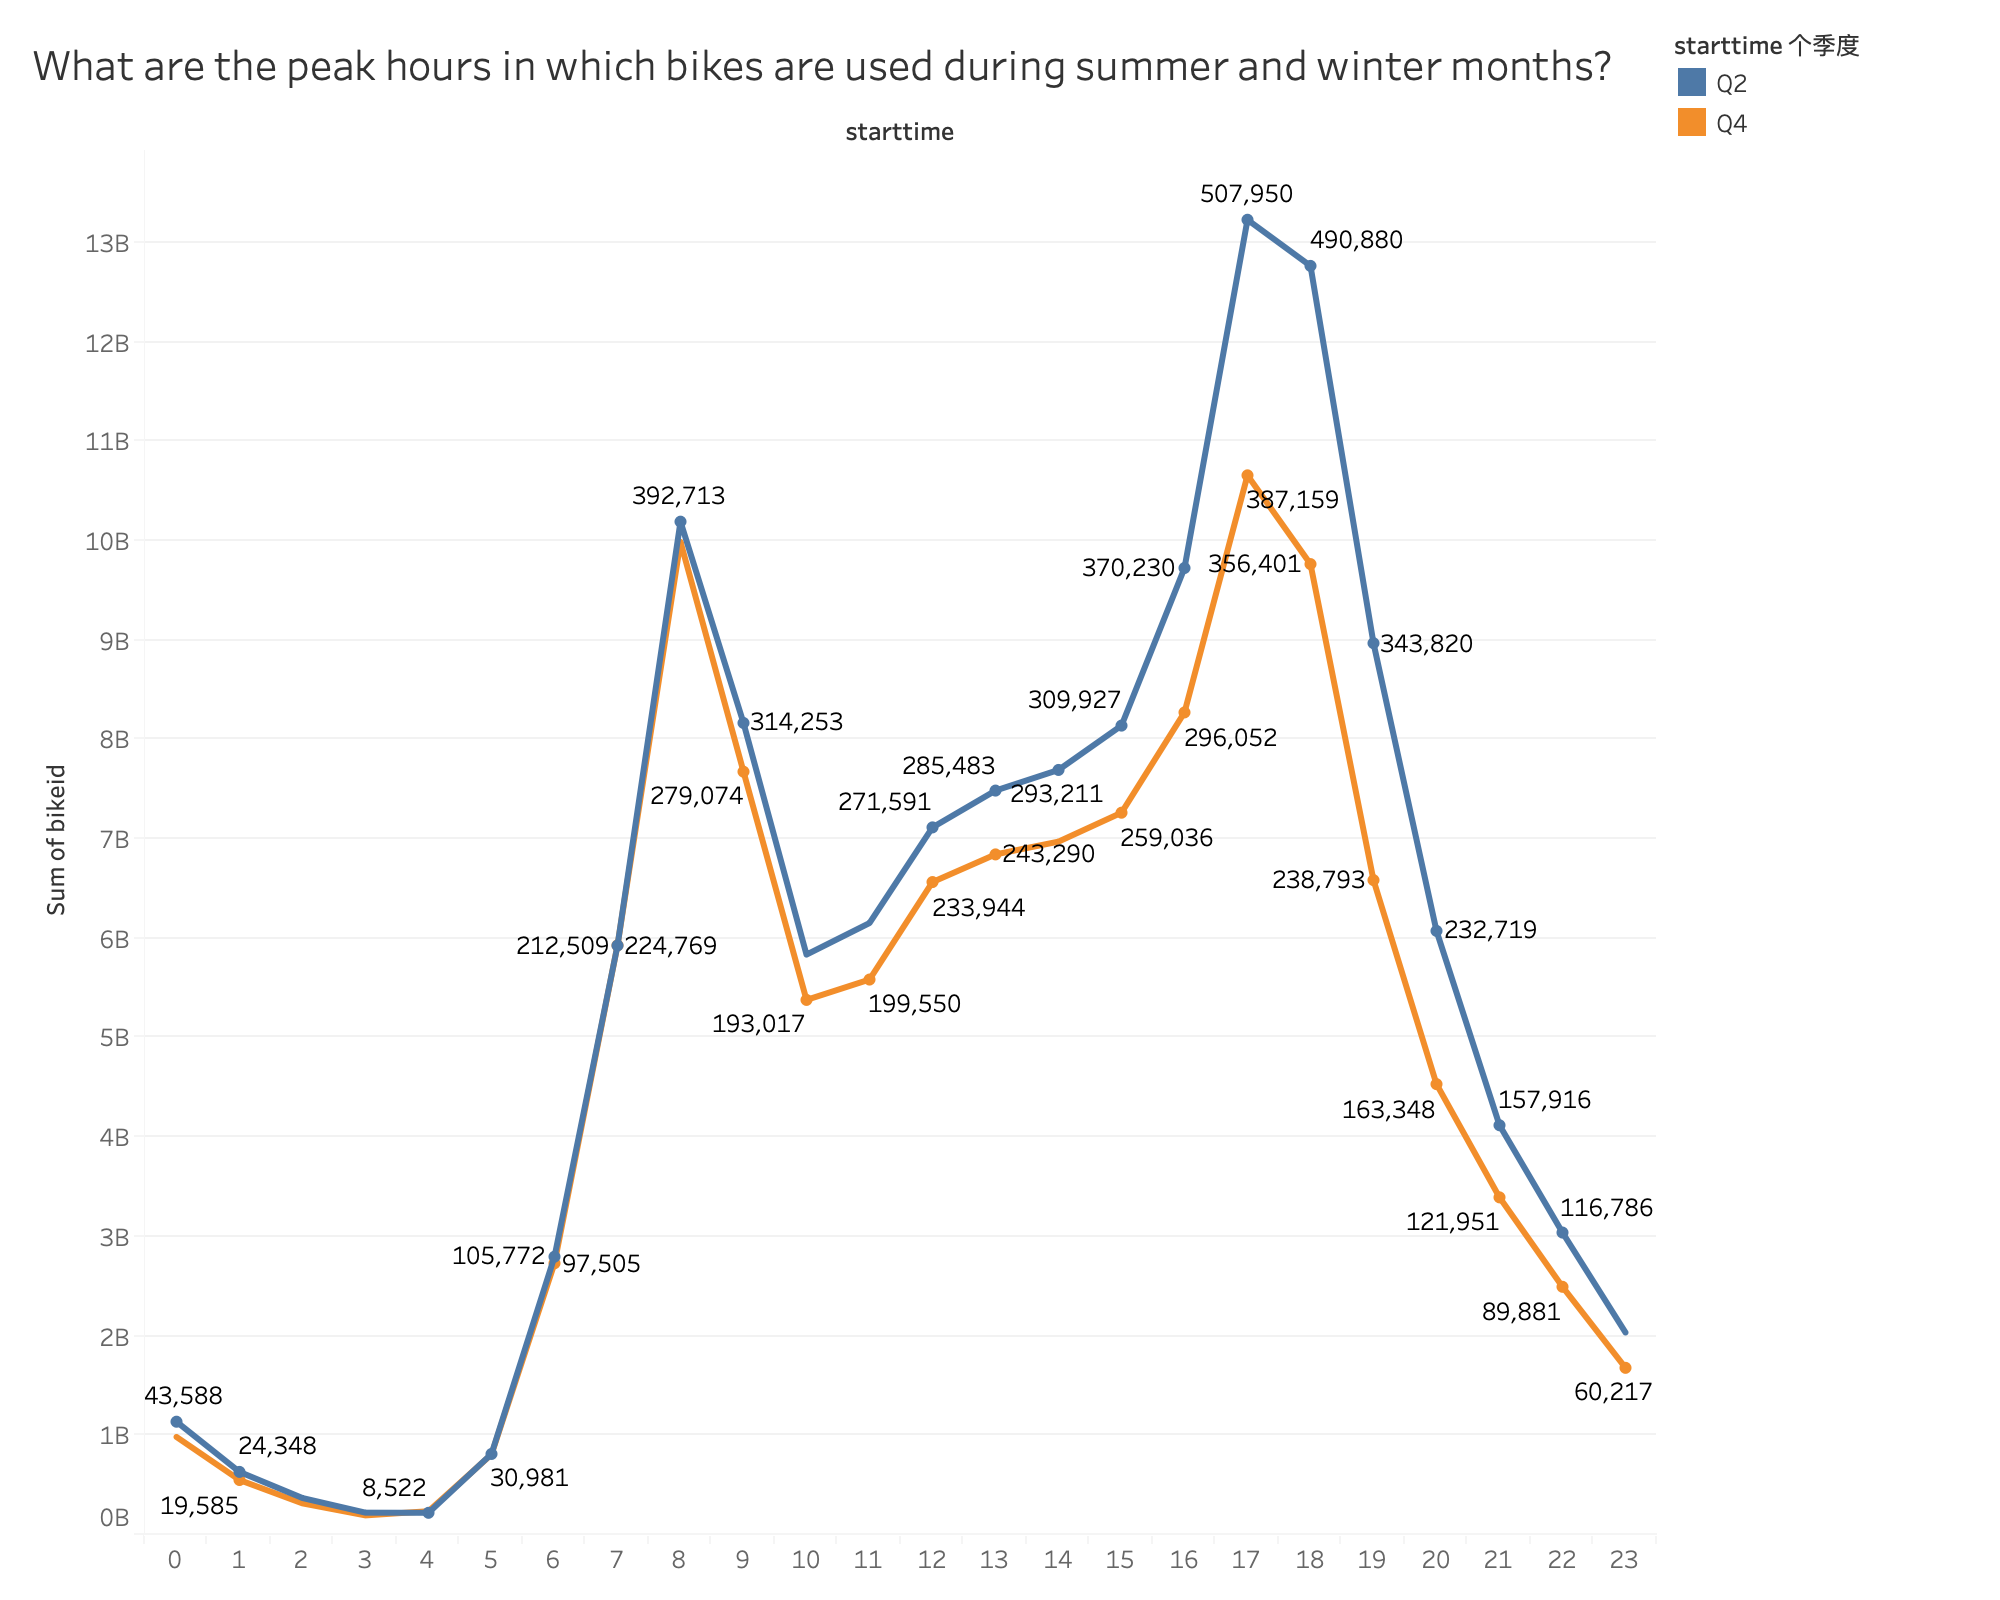

The page's visual inventory and layout, read from the dashboard file:
{"tool":"tableau","page":{"name":"仪表板 4","canvas":[1000,800],"ordinal":3},"visuals":[{"type":"worksheet","title":"工作表 3","mark":"Line","rows":["bikeid"],"cols":["starttime"],"box":[8,8,824,784]},{"type":"legend","title":"工作表 3","param":"[federated.02kz2ur0veorju1ejoxha19djnvy].[qr:starttime:ok]","box":[832,8,160,67]}]}

Visuals, with their boxes in screenshot pixels (x1, y1, x2, y2), scaled from the page's 1000x800 canvas onto the 2000x1600 screenshot:
"工作表 3" worksheet (Line marks): [x1=16, y1=16, x2=1664, y2=1584]
"工作表 3" legend: [x1=1664, y1=16, x2=1984, y2=150]
